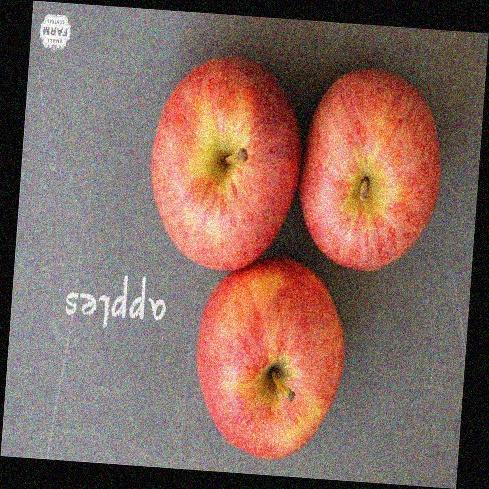red apple: (154, 53, 303, 276), (191, 258, 346, 460), (302, 67, 442, 269)
